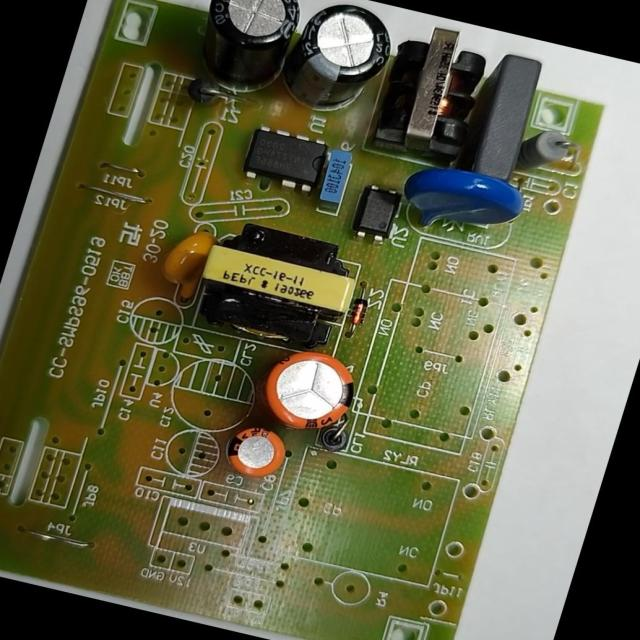Cap1: (251, 340, 369, 444)
Cap2: (220, 418, 296, 484)
Cap3: (280, 0, 405, 125)
Cap4: (185, 0, 314, 97)
MOSFET: (240, 122, 328, 197)
Mov: (394, 158, 533, 248)
Resistor: (513, 122, 575, 185)
Transformer: (188, 212, 370, 355), (364, 16, 502, 170)
